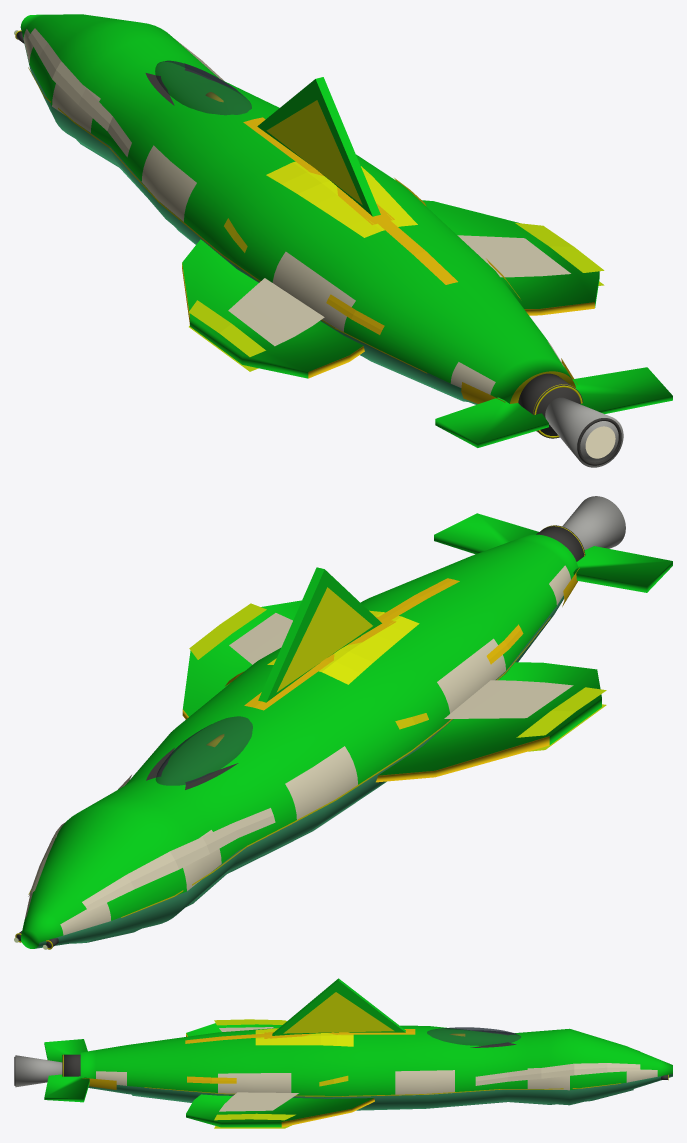
The model's file is Ship_Orca_652174.glb.
3 views of the same model, one above another, from view 1: azimuth 30°, elevation 25°; view 2: azimuth 150°, elevation 25°; view 3: azimuth 270°, elevation 25° (orthographic). The views are drawn at different scales.
Parts seen in each view (by area): view 1: Fuselage_OrcaCountershadedHull, PectoralFin_Left_AerofoilWingFin, PectoralFin_Right_AerofoilWingFin, PaintSaddlePatch_DorsalSweptBackMark, DorsalFinTrimPatch_LeftFace, PectoralFinPaint_Left_BroadSimplePanelTop, TailFluke_Left_SweptAftStabilizer, DorsalFin_MainSweptKeel, CanopyGlass_LowInsetDome, TailFluke_Right_SweptAftStabilizer, PectoralFinPaint_Right_BroadSimplePanelTop, EngineBell_MainLargeBurnishedNozzle (+8 smaller); view 2: Fuselage_OrcaCountershadedHull, PectoralFin_Left_AerofoilWingFin, CanopyGlass_LowInsetDome, PaintEyePatch_Left_ForwardWhiteComma, PectoralFin_Right_AerofoilWingFin, DorsalFinTrimPatch_LeftFace, PectoralFinPaint_Left_BroadSimplePanelTop, DorsalFin_MainSweptKeel, TailFluke_Left_SweptAftStabilizer, PaintSaddlePatch_DorsalSweptBackMark, EngineBell_MainLargeBurnishedNozzle, TailFluke_Right_SweptAftStabilizer (+8 smaller); view 3: Fuselage_OrcaCountershadedHull, PectoralFin_Right_AerofoilWingFin, DorsalFinTrimPatch_RightFace, PaintEyePatch_Right_ForwardWhiteComma, DorsalFin_MainSweptKeel, CanopyGlass_LowInsetDome, PaintSaddlePatch_DorsalSweptBackMark, EngineBell_MainLargeBurnishedNozzle, PectoralFinPaint_Right_BroadSimplePanelTop, TailFluke_Right_SweptAftStabilizer, TailFluke_Left_SweptAftStabilizer, HullLongitudinalSeam_Right_SideDarkLine (+9 smaller).
Boxes of the visible parts, box(x1,y1,x2,y2) form: Fuselage_OrcaCountershadedHull: box(20, 14, 575, 404); PectoralFin_Left_AerofoilWingFin: box(182, 239, 364, 378); PectoralFin_Right_AerofoilWingFin: box(422, 200, 599, 315); PaintSaddlePatch_DorsalSweptBackMark: box(266, 161, 417, 237); DorsalFinTrimPatch_LeftFace: box(266, 100, 362, 204); PectoralFinPaint_Left_BroadSimplePanelTop: box(228, 278, 324, 346); TailFluke_Left_SweptAftStabilizer: box(435, 397, 548, 447); DorsalFin_MainSweptKeel: box(257, 77, 380, 216); CanopyGlass_LowInsetDome: box(155, 60, 251, 115); TailFluke_Right_SweptAftStabilizer: box(572, 367, 672, 413); PectoralFinPaint_Right_BroadSimplePanelTop: box(457, 235, 570, 277); EngineBell_MainLargeBurnishedNozzle: box(545, 397, 623, 467); Fuselage_OrcaCountershadedHull: box(20, 534, 577, 948); PectoralFin_Left_AerofoilWingFin: box(376, 662, 601, 782); CanopyGlass_LowInsetDome: box(155, 716, 252, 785); PaintEyePatch_Left_ForwardWhiteComma: box(82, 808, 275, 911); PectoralFin_Right_AerofoilWingFin: box(182, 600, 301, 719); DorsalFinTrimPatch_LeftFace: box(276, 587, 372, 692); PectoralFinPaint_Left_BroadSimplePanelTop: box(444, 680, 573, 718); DorsalFin_MainSweptKeel: box(258, 567, 381, 702); TailFluke_Left_SweptAftStabilizer: box(573, 546, 672, 592); PaintSaddlePatch_DorsalSweptBackMark: box(267, 610, 419, 684); EngineBell_MainLargeBurnishedNozzle: box(562, 496, 625, 550); TailFluke_Right_SweptAftStabilizer: box(434, 513, 538, 554); Fuselage_OrcaCountershadedHull: box(80, 1025, 672, 1109); PectoralFin_Right_AerofoilWingFin: box(186, 1094, 374, 1127); DorsalFinTrimPatch_RightFace: box(283, 992, 394, 1033); PaintEyePatch_Right_ForwardWhiteComma: box(475, 1063, 640, 1085); DorsalFin_MainSweptKeel: box(272, 978, 405, 1035); CanopyGlass_LowInsetDome: box(427, 1027, 520, 1045); PaintSaddlePatch_DorsalSweptBackMark: box(255, 1028, 353, 1046); EngineBell_MainLargeBurnishedNozzle: box(15, 1055, 62, 1087); PectoralFinPaint_Right_BroadSimplePanelTop: box(219, 1092, 298, 1111); TailFluke_Right_SweptAftStabilizer: box(44, 1074, 89, 1102); TailFluke_Left_SweptAftStabilizer: box(44, 1039, 87, 1062); HullLongitudinalSeam_Right_SideDarkLine: box(144, 1083, 620, 1096).
Bounding box in the file's own units: 3.17 × 1.78 × 8.78.
